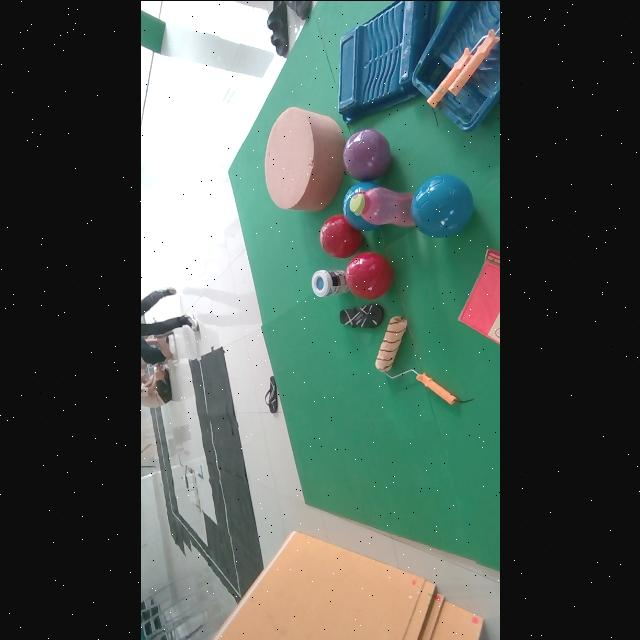B: (410, 173, 473, 236)
P: (343, 127, 390, 179)
R: (344, 251, 393, 299), (319, 213, 362, 257)
